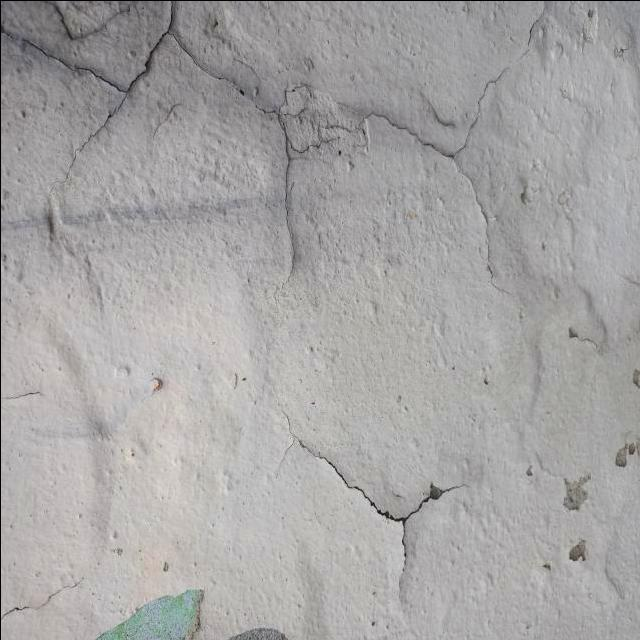SurfaceCrack: (255, 413, 637, 566)
